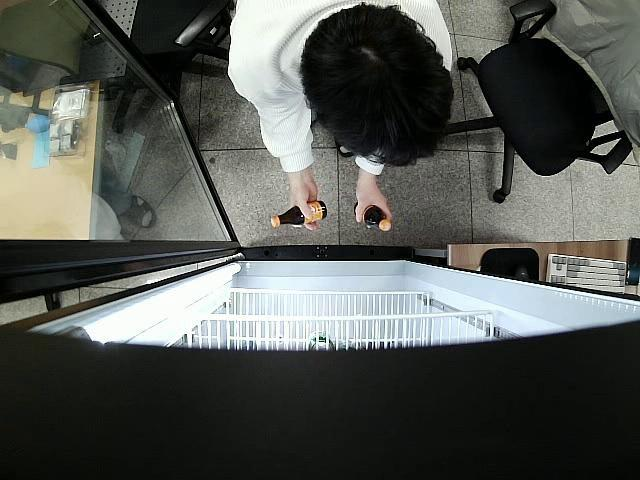17_vita500: (270, 204, 328, 230), (354, 200, 392, 234)
